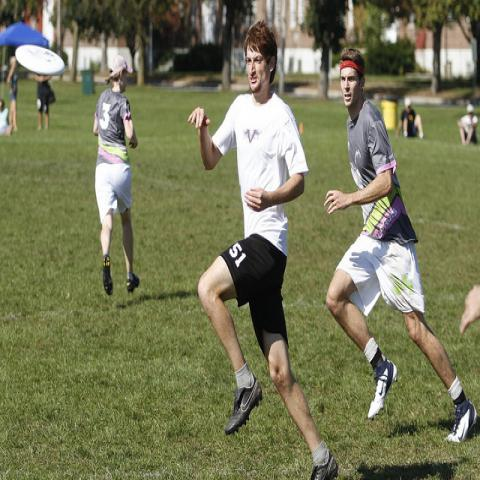truck: (172, 41, 225, 79)
